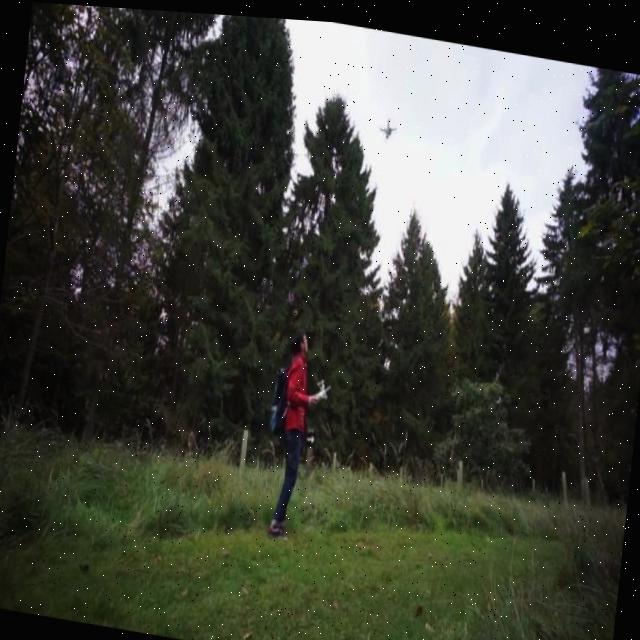drone: (377, 109, 398, 137)
